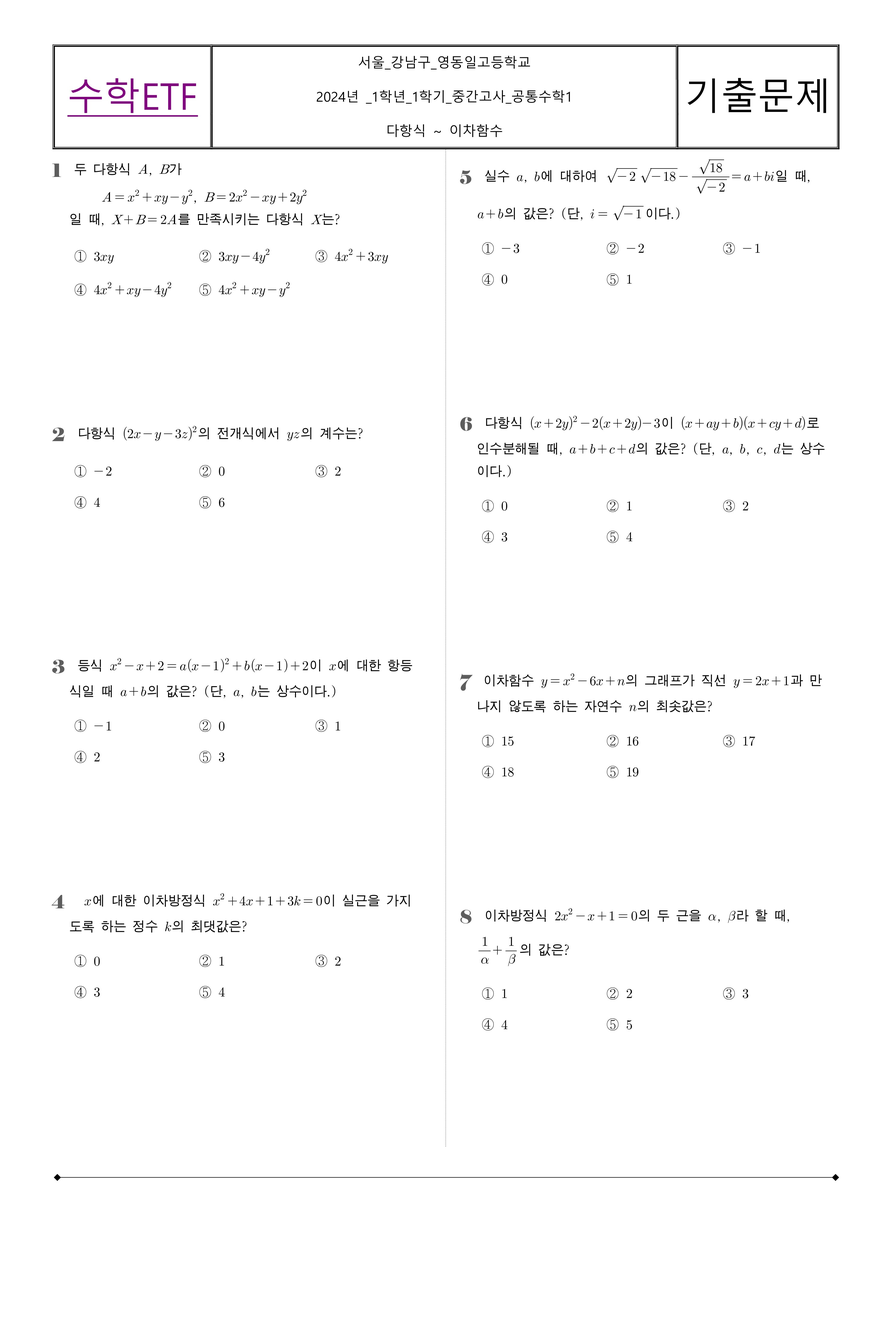problem: (47, 154, 434, 313), (456, 405, 833, 557), (453, 897, 819, 1050), (453, 156, 815, 297), (450, 658, 840, 785), (39, 644, 422, 767), (46, 884, 427, 1004), (39, 414, 442, 527)
